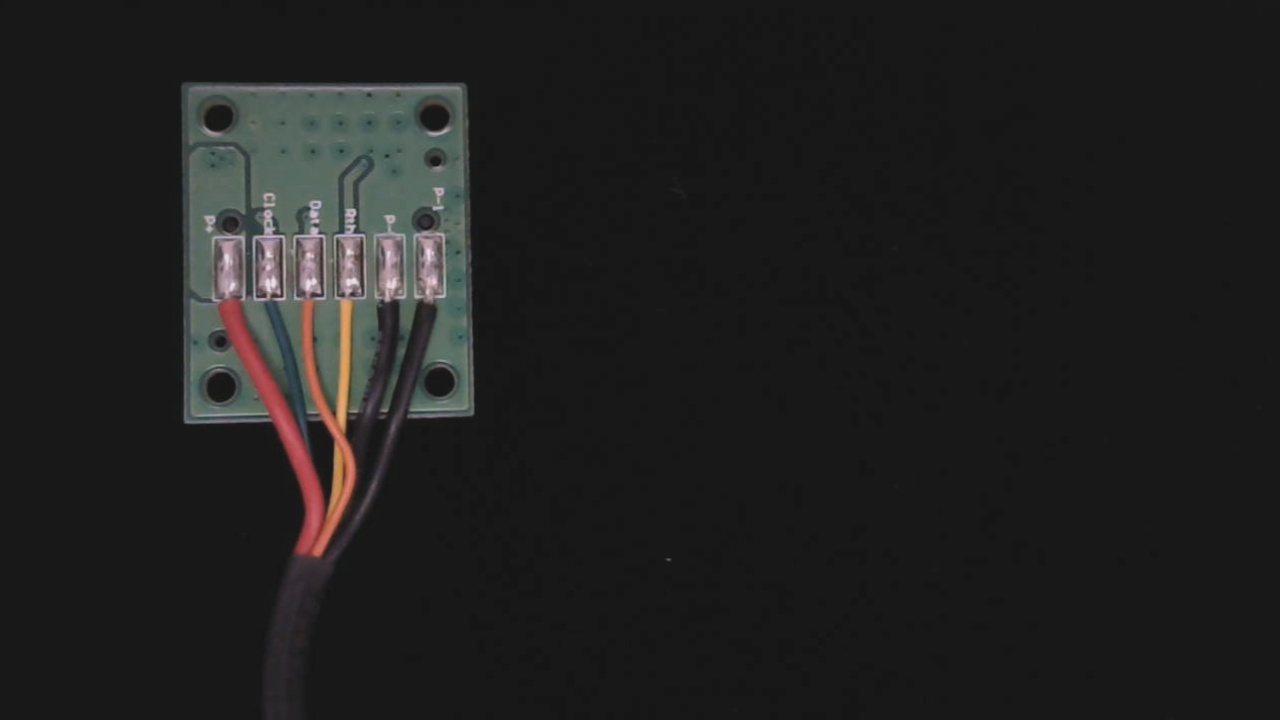Black: (372, 282, 406, 347)
Black1: (415, 280, 449, 348)
Green: (254, 282, 287, 344)
Orange: (292, 281, 327, 341)
Red: (211, 284, 247, 355)
Yellow: (333, 279, 364, 345)
